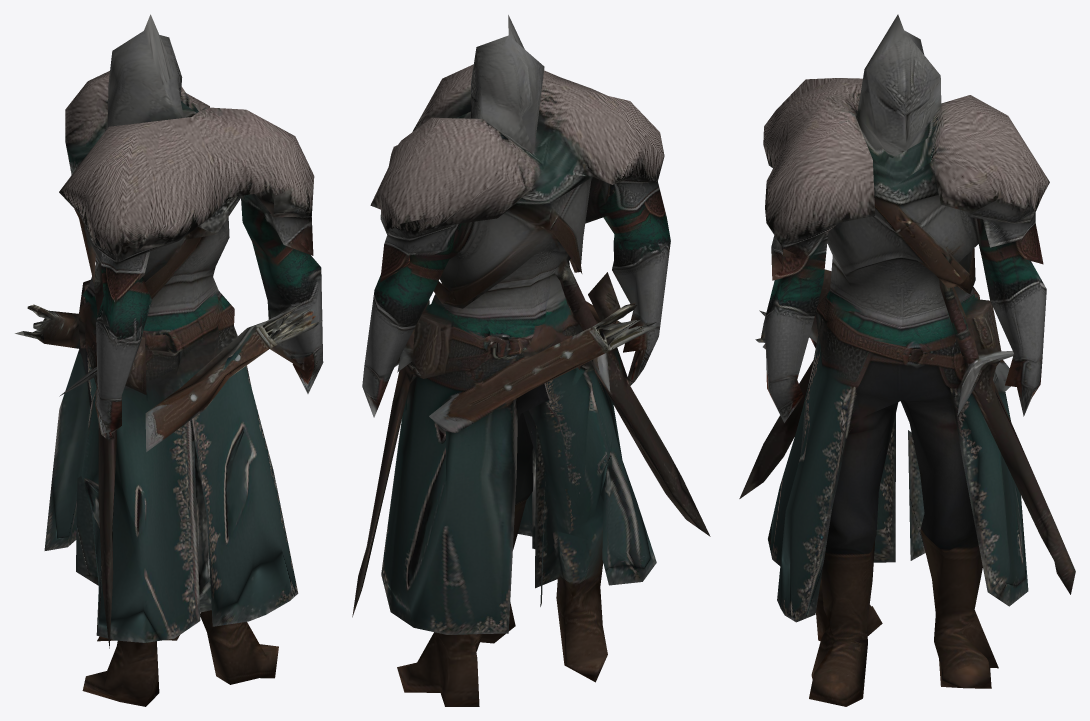
3 renders of one model, left to right at view 1: azimuth 30°, elevation 25°; view 2: azimuth 150°, elevation 25°; view 3: azimuth 270°, elevation 25°, orthographic.
Visible parts, largest first — view 1: tripo_node_a4d75d28-6e35-4b6e-8173-ab49b6082250; view 2: tripo_node_a4d75d28-6e35-4b6e-8173-ab49b6082250; view 3: tripo_node_a4d75d28-6e35-4b6e-8173-ab49b6082250.
Boxes of the visible parts, bbox=[...] form: tripo_node_a4d75d28-6e35-4b6e-8173-ab49b6082250: bbox=[15, 14, 323, 706]; tripo_node_a4d75d28-6e35-4b6e-8173-ab49b6082250: bbox=[352, 15, 710, 706]; tripo_node_a4d75d28-6e35-4b6e-8173-ab49b6082250: bbox=[739, 14, 1075, 706].
Size of the model in its own units: 0.3993 by 0.9782 by 0.4595.
1 material, 1 textured.
